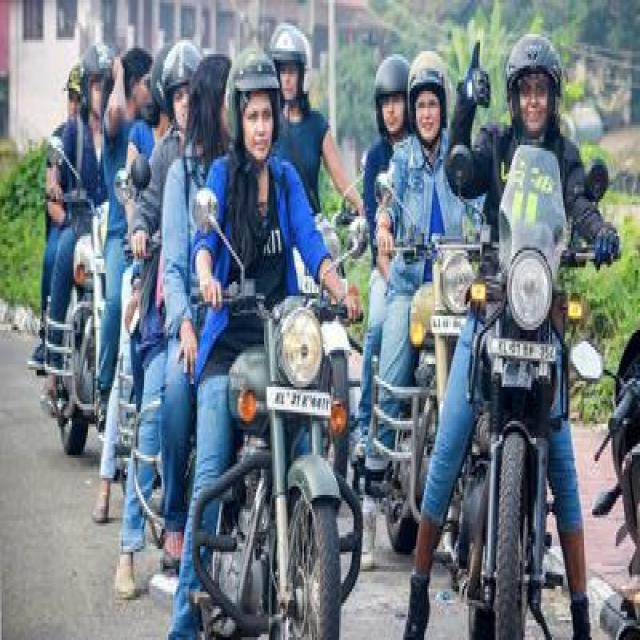Helmet: (224, 43, 282, 162), (502, 31, 562, 142), (408, 49, 448, 142)
